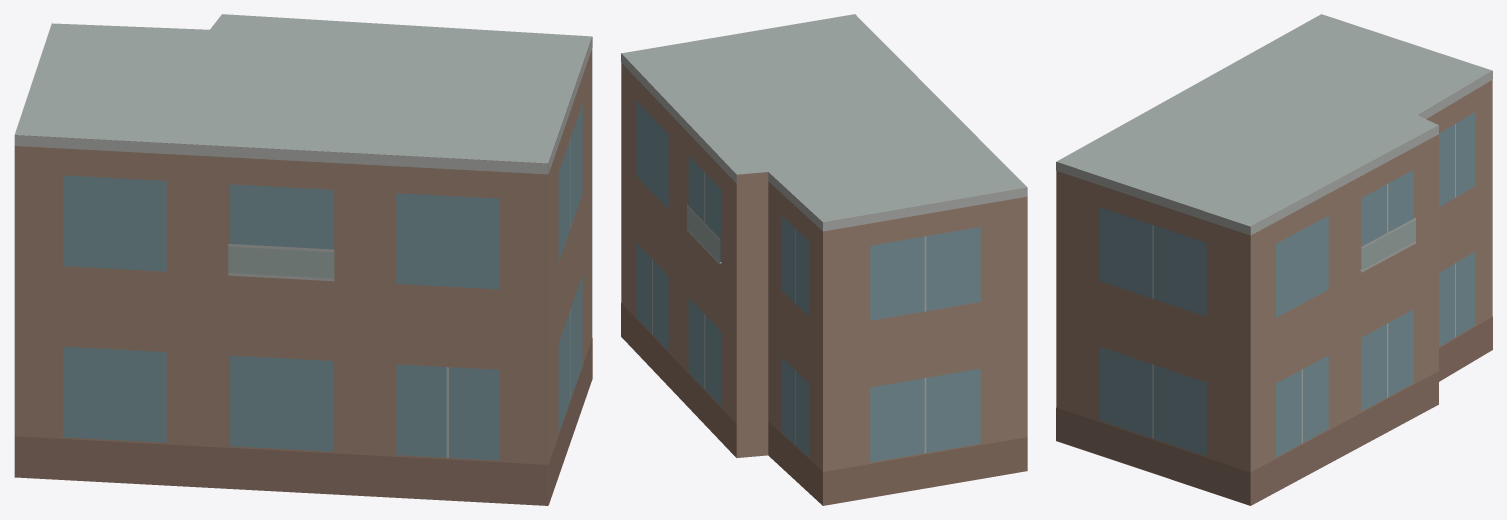
Rendered from survey-upis-32546726.glb.
3 renders of one model, left to right at view 1: azimuth 30°, elevation 25°; view 2: azimuth 150°, elevation 25°; view 3: azimuth 270°, elevation 25°, orthographic. The views are drawn at different scales.
Visible parts, largest first — view 1: survey-upis-32546726.tmp; view 2: survey-upis-32546726.tmp; view 3: survey-upis-32546726.tmp.
Boxes of the visible parts, x1,y1,x2,y2 form: survey-upis-32546726.tmp: [14, 14, 592, 505]; survey-upis-32546726.tmp: [621, 14, 1027, 505]; survey-upis-32546726.tmp: [1056, 14, 1492, 505].
Size of the model in its own units: 12.42 by 7.6 by 10.78.
